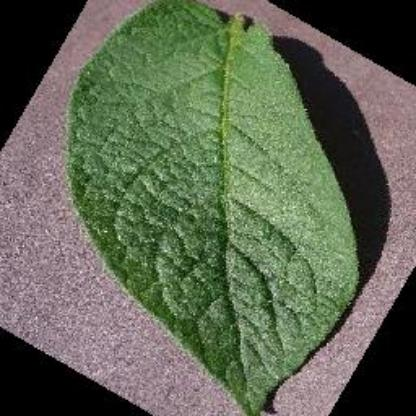Healthy-plant: (60, 0, 364, 412)
